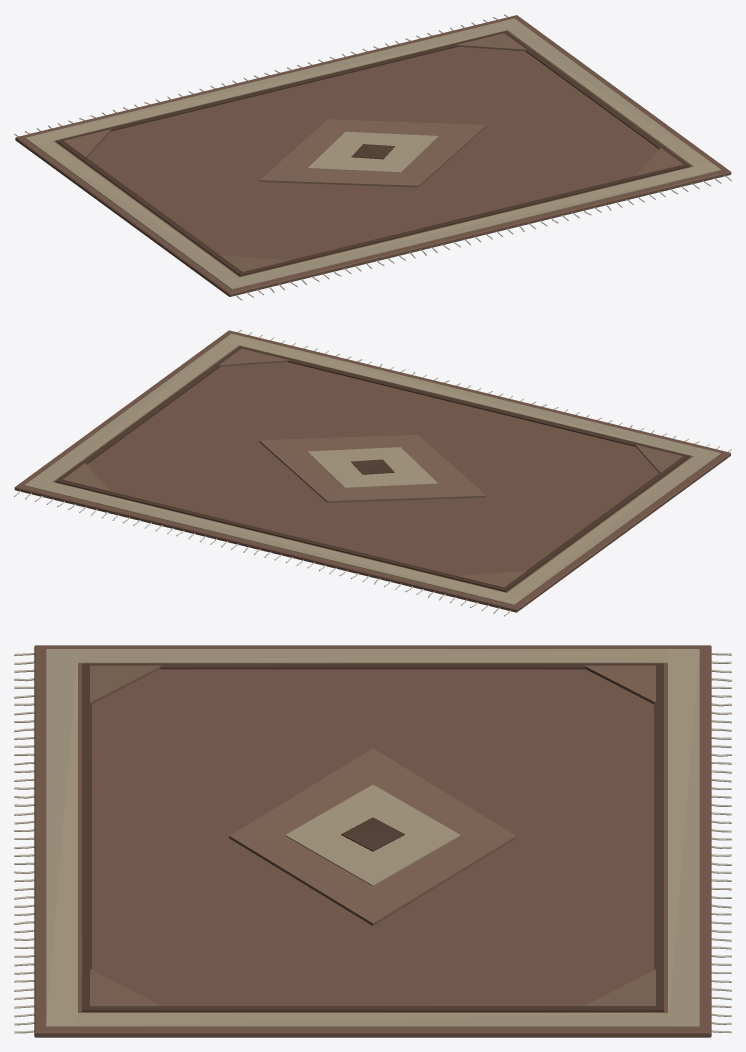
File: dining-area-rug.glb
3 views of the same model, one above another, from view 1: azimuth 30°, elevation 25°; view 2: azimuth 150°, elevation 25°; view 3: azimuth 270°, elevation 25° (orthographic). The views are drawn at different scales.
Visible parts, largest first — view 1: dining_area_rug; view 2: dining_area_rug; view 3: dining_area_rug.
Boxes of the visible parts, left/top/right/bottom form: dining_area_rug: left=14, top=14, right=731, bottom=300; dining_area_rug: left=14, top=329, right=731, bottom=616; dining_area_rug: left=14, top=645, right=731, bottom=1037.
Bounding box in the file's own units: 2.3 × 0.0293 × 1.8.
